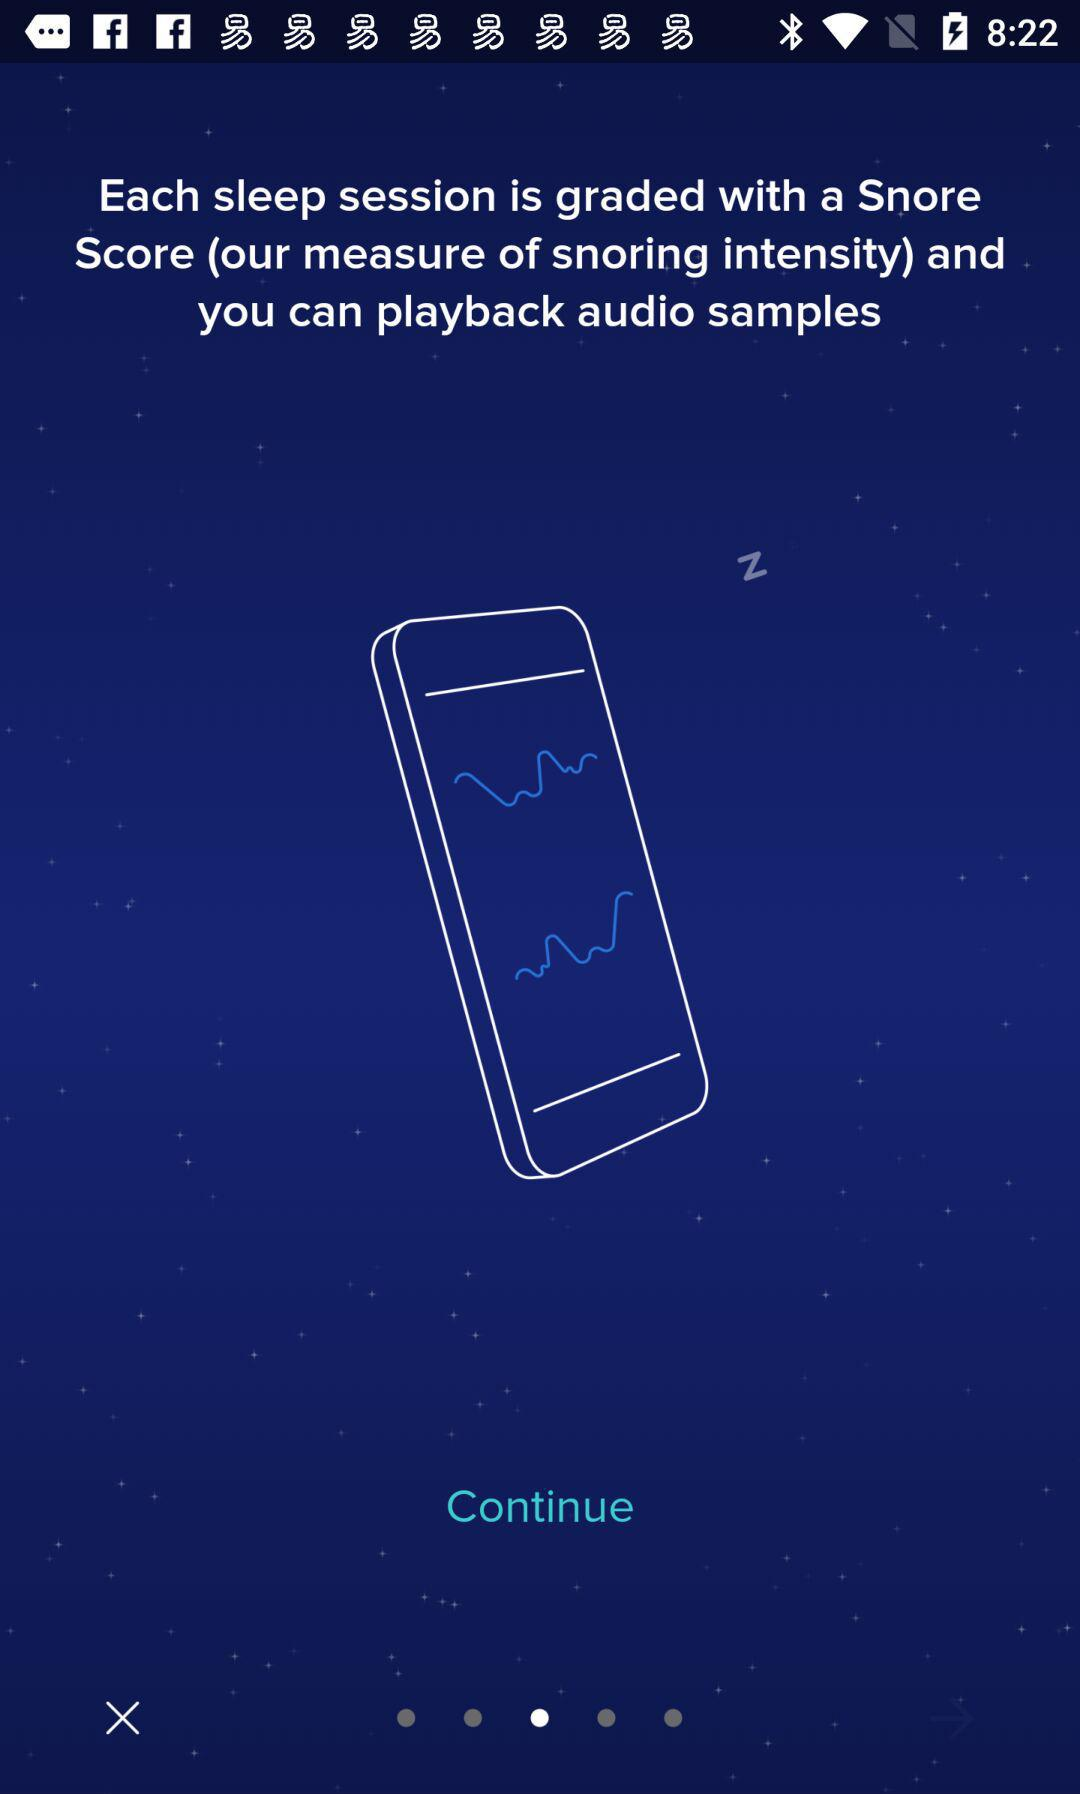Icon: (105, 1699, 142, 1736)
Image: (372, 606, 710, 1183)
PageIndicator: (396, 1707, 685, 1730)
Text: (76, 178, 1004, 338), (447, 1488, 634, 1525)
UpperTaskBar: (1, 1, 1080, 64)
